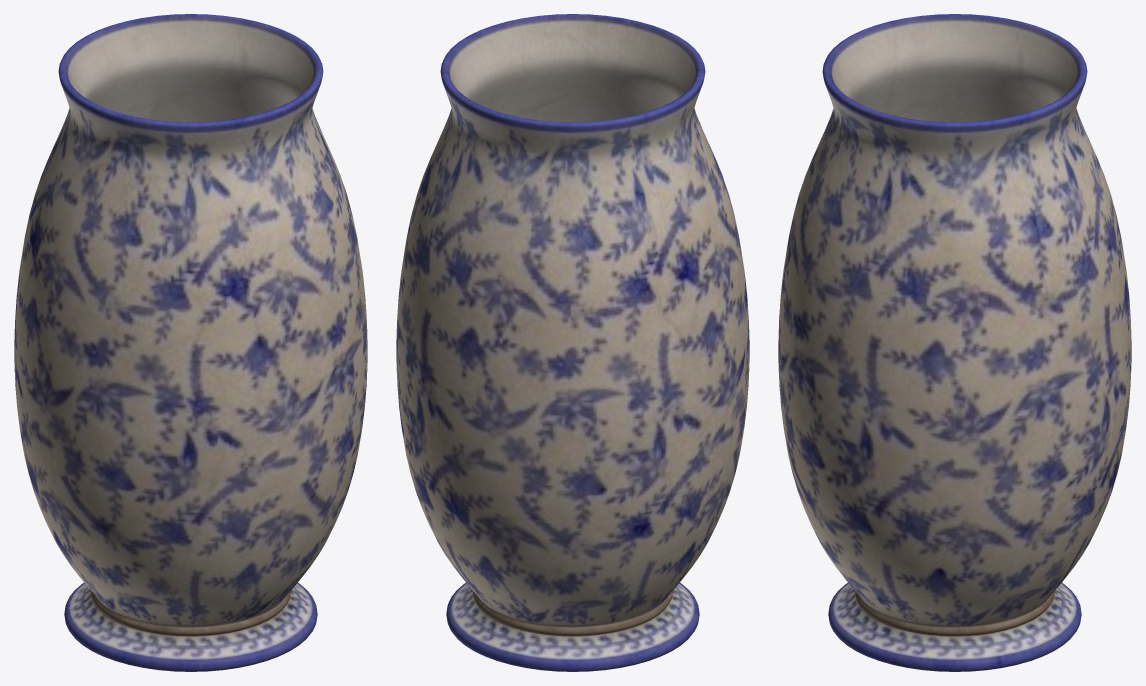
File: antique_ceramic_vase_01.glb
The picture shows the model from 3 angles, left to right: view 1: azimuth 30°, elevation 25°; view 2: azimuth 150°, elevation 25°; view 3: azimuth 270°, elevation 25°; orthographic projection.
Parts seen in each view (by area): view 1: antique_ceramic_vase_01; view 2: antique_ceramic_vase_01; view 3: antique_ceramic_vase_01.
Part boxes in pixels (<box>): antique_ceramic_vase_01: <box>14,14,367,671</box>; antique_ceramic_vase_01: <box>396,14,749,671</box>; antique_ceramic_vase_01: <box>778,14,1131,671</box>.
Bounding box in the file's own units: 0.255 × 0.4396 × 0.255.
1 material, 1 textured.
